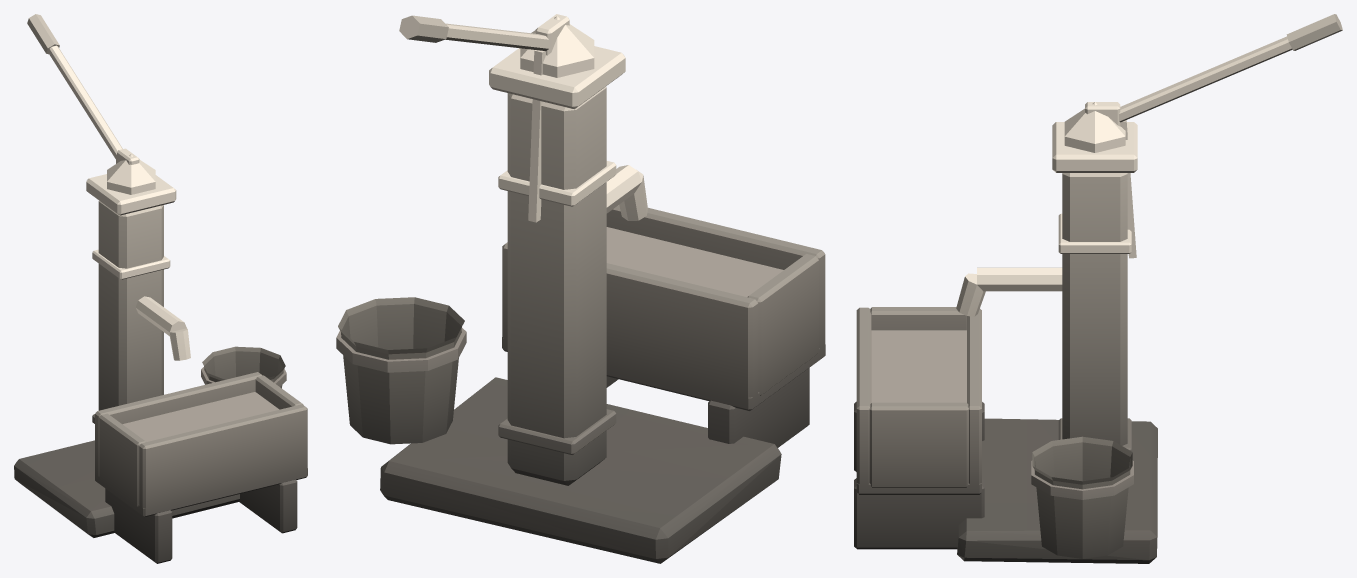
File: SM_VK_Prop_HandPump.fbx
3 views of the same model, side by side, from view 1: azimuth 30°, elevation 25°; view 2: azimuth 150°, elevation 25°; view 3: azimuth 270°, elevation 25° (orthographic). The views are drawn at different scales.
Parts seen in each view (by area): view 1: SM_VK_Prop_HandPump.001; view 2: SM_VK_Prop_HandPump.001; view 3: SM_VK_Prop_HandPump.001.
Part boxes in pixels (x1,y1,x2,y2): SM_VK_Prop_HandPump.001: (14, 14, 307, 563); SM_VK_Prop_HandPump.001: (336, 14, 825, 563); SM_VK_Prop_HandPump.001: (854, 14, 1342, 563).
Size of the model in its own units: 1.39 by 2.17 by 1.95.
